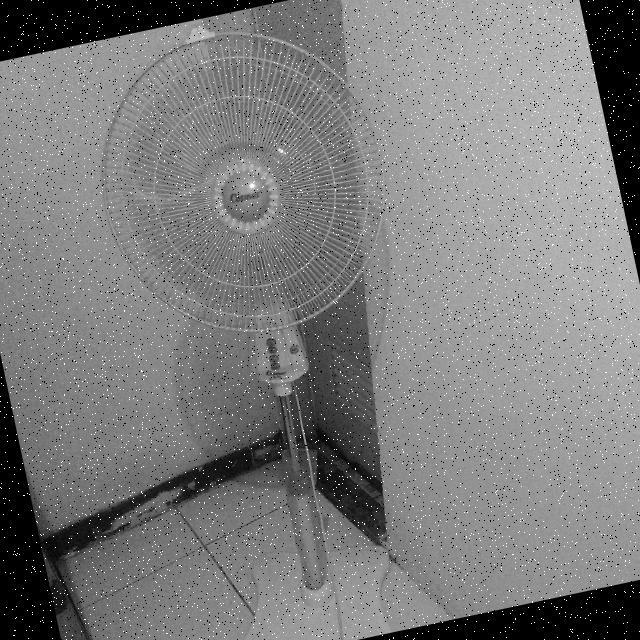fan: (72, 9, 420, 362)
